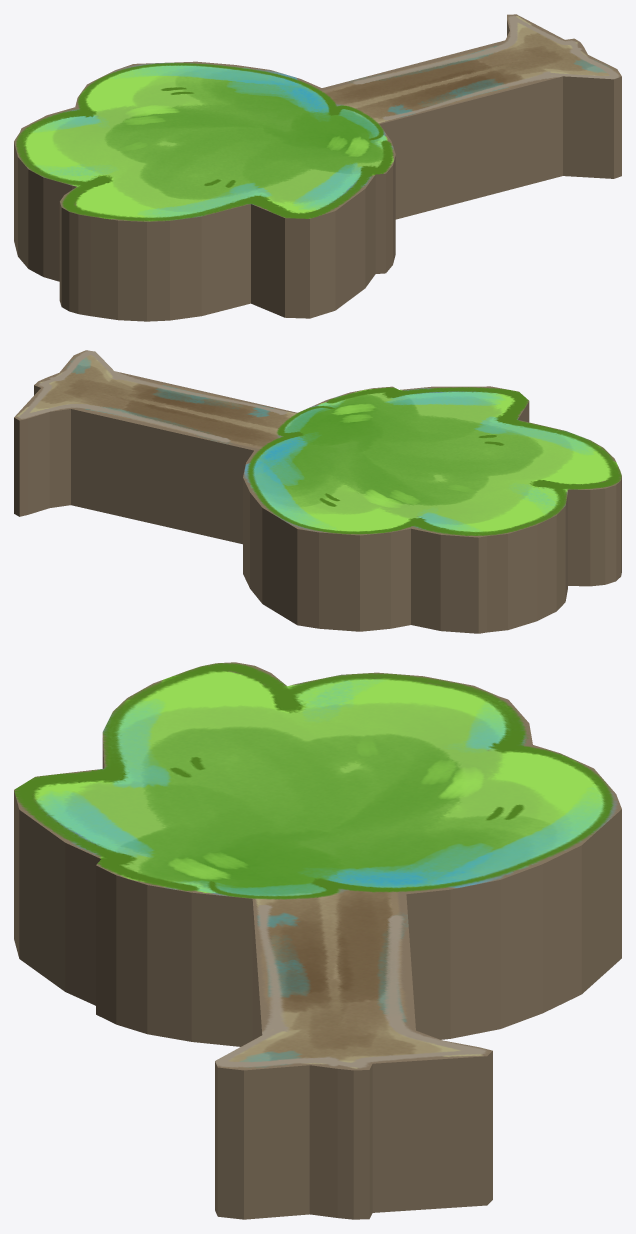
Rendered from Arbol2.fbx.
The picture shows the model from 3 angles, top to bottom: view 1: azimuth 30°, elevation 25°; view 2: azimuth 150°, elevation 25°; view 3: azimuth 270°, elevation 25°; orthographic projection. The views are drawn at different scales.
Visible parts, largest first — view 1: Cube.002; view 2: Cube.002; view 3: Cube.002.
Part boxes in pixels (box(x1,y1,x2,y2)): Cube.002: box(14, 14, 621, 321); Cube.002: box(14, 350, 621, 633); Cube.002: box(14, 662, 621, 1219).
Size of the model in its own units: 404 by 68.85 by 254.
